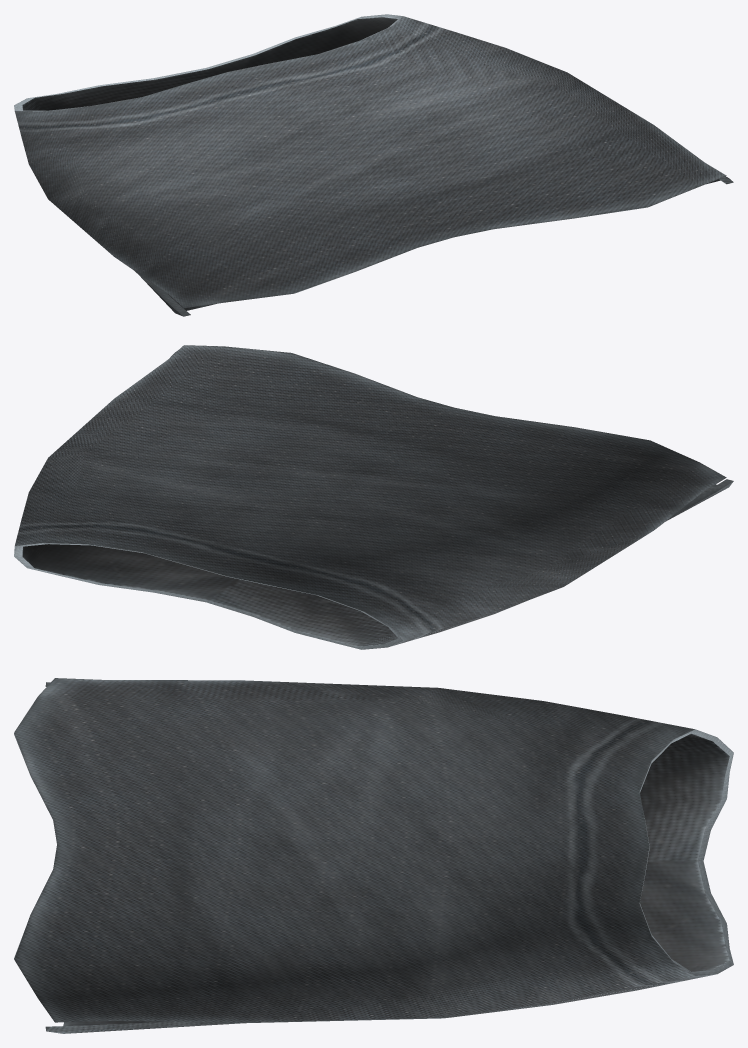
Rendered from W_BR_Skirts.fbx.
The picture shows the model from 3 angles, top to bottom: view 1: azimuth 30°, elevation 25°; view 2: azimuth 150°, elevation 25°; view 3: azimuth 270°, elevation 25°; orthographic projection. The views are drawn at different scales.
Visible parts, largest first — view 1: Skirts_Base001; view 2: Skirts_Base001; view 3: Skirts_Base001.
Part boxes in pixels (box(x1,y1,x2,y2)): Skirts_Base001: box(14, 14, 733, 316); Skirts_Base001: box(14, 345, 733, 649); Skirts_Base001: box(14, 678, 733, 1033).
Size of the model in its own units: 19.04 by 0.5309 by 16.48.
